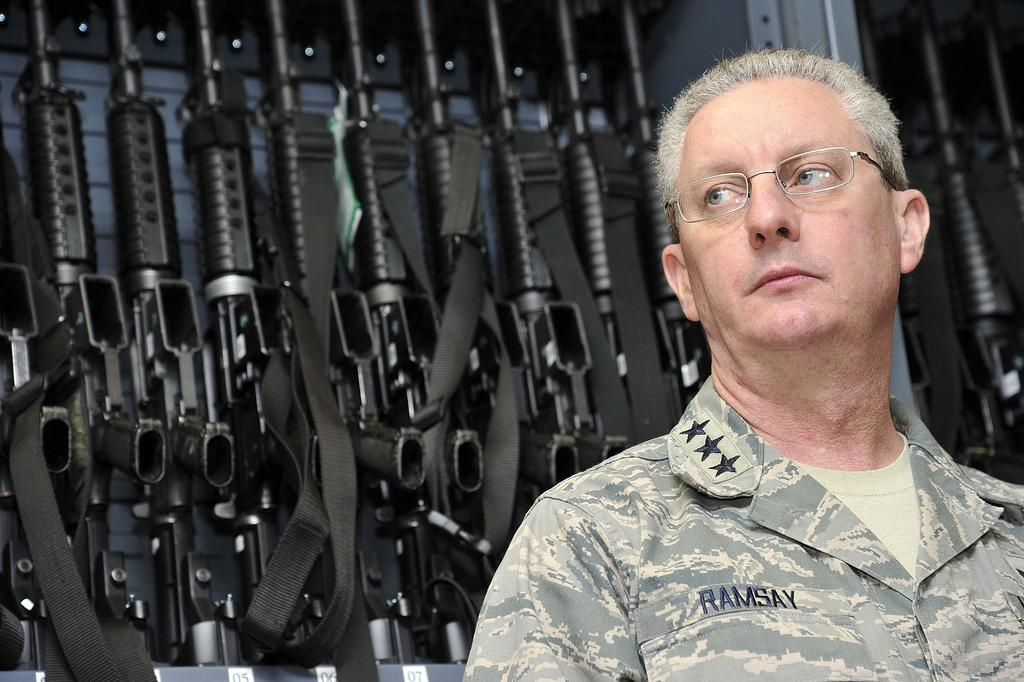Rifle: (0, 0, 708, 681), (927, 0, 1023, 473), (861, 0, 932, 428)
